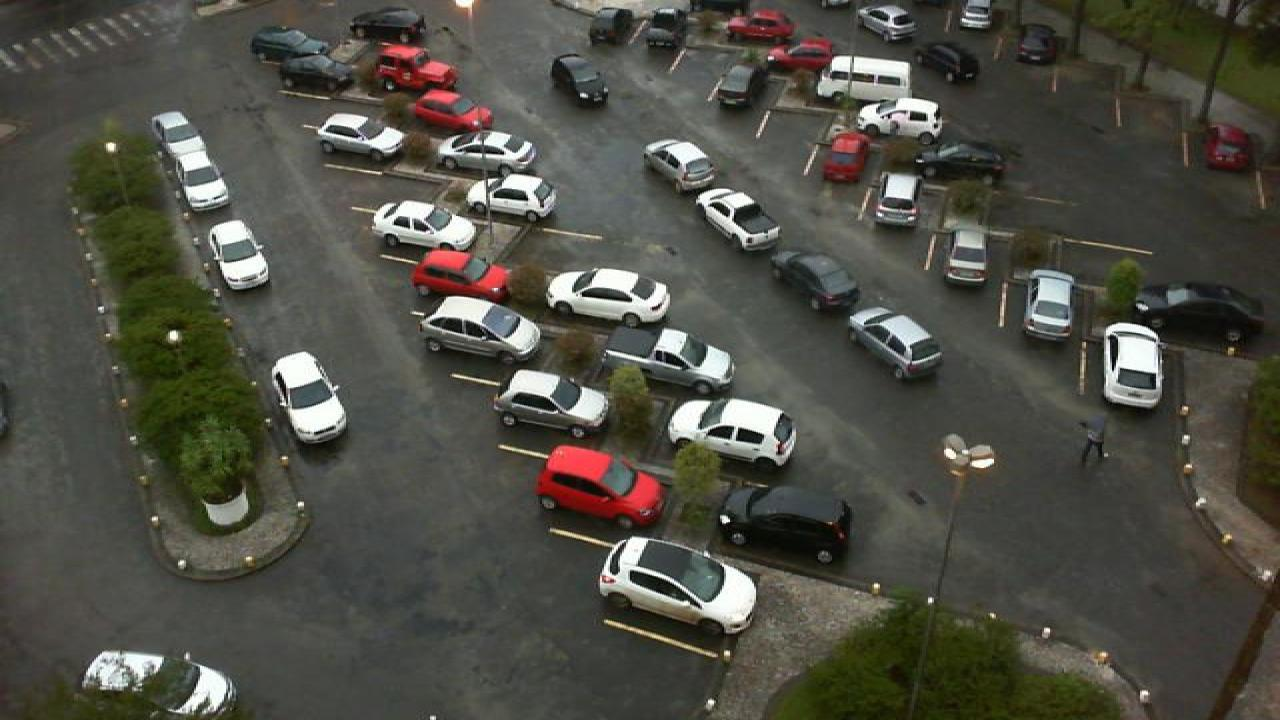Car: (596, 536, 760, 636), (534, 444, 666, 530), (80, 650, 238, 720), (718, 483, 854, 564), (666, 395, 800, 470), (598, 326, 736, 395), (490, 367, 610, 439), (1132, 281, 1270, 343), (416, 295, 542, 361), (268, 351, 350, 445), (546, 266, 672, 326), (846, 306, 944, 380), (368, 199, 478, 254), (410, 247, 512, 305), (772, 248, 864, 312), (1100, 322, 1166, 410), (694, 187, 782, 251), (814, 55, 912, 106), (464, 173, 558, 226), (438, 128, 540, 176), (206, 220, 272, 292), (314, 113, 406, 163), (642, 138, 718, 194), (374, 44, 460, 92), (170, 150, 234, 212), (1024, 269, 1078, 341), (410, 88, 494, 134), (914, 138, 1006, 180), (856, 96, 942, 140), (150, 110, 208, 169), (550, 54, 612, 108), (872, 172, 926, 231), (944, 224, 994, 287), (276, 54, 358, 92), (710, 62, 770, 112), (820, 130, 874, 184), (248, 26, 326, 61), (350, 8, 428, 43), (918, 42, 980, 86), (768, 37, 836, 73), (858, 4, 918, 44), (636, 6, 690, 50), (1206, 121, 1254, 170), (728, 8, 794, 42), (588, 5, 636, 48), (1014, 22, 1060, 66), (956, 0, 994, 30)
